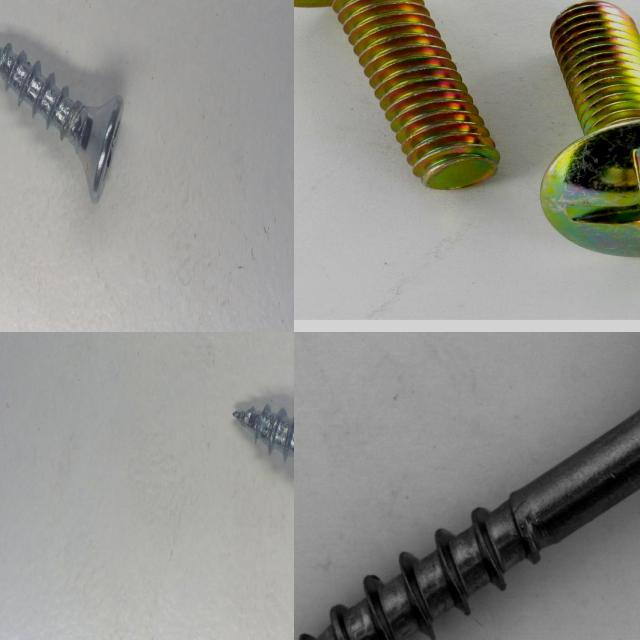Screw: (294, 332, 640, 640), (294, 0, 499, 189), (534, 0, 640, 263), (0, 42, 123, 202), (233, 404, 294, 459)
